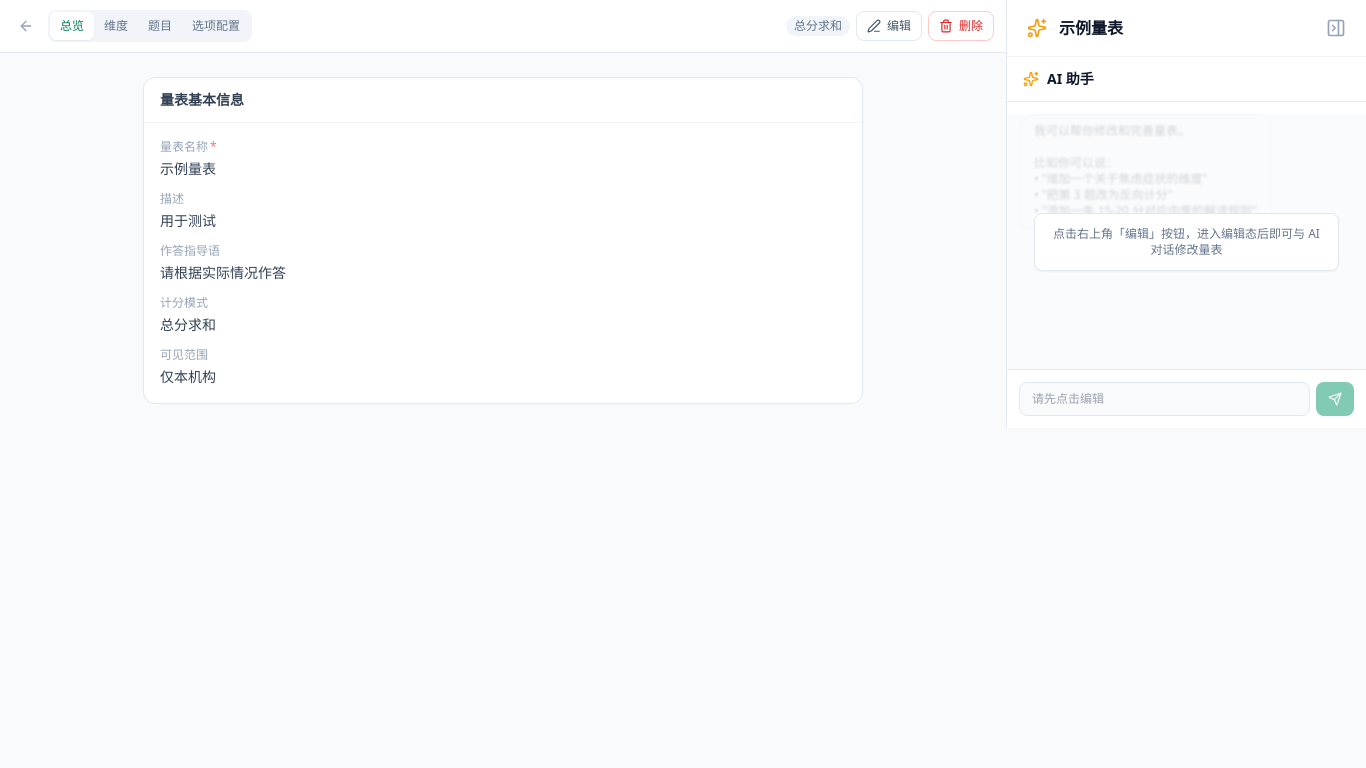
Test case: ScaleDetail — pre-split characterization › clicking 编辑 swaps action buttons to 保存 + 取消
Click the button "编辑" at {"x": 889, "y": 26}, box [856, 11, 922, 41]
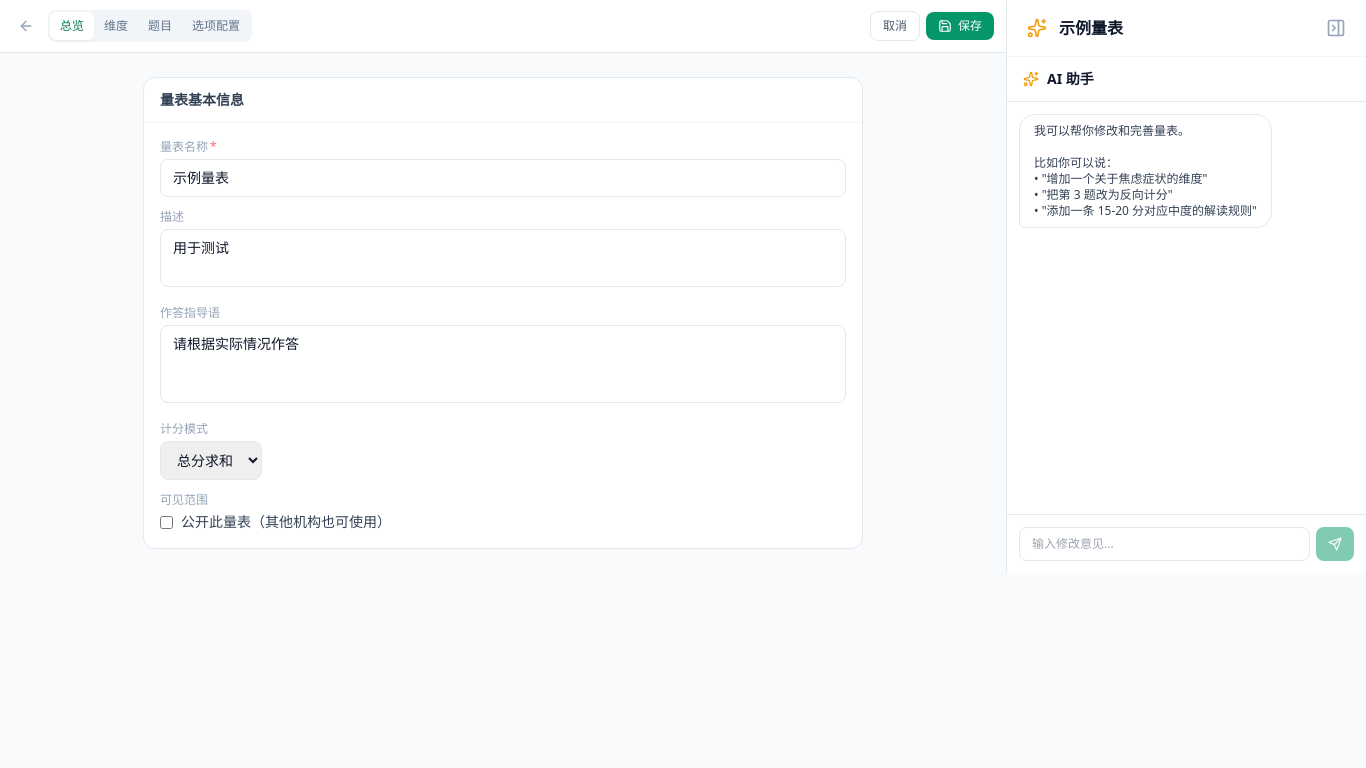
Check: the button "保存" is shown, box [926, 12, 994, 40]
Check: the button "取消" is shown, box [870, 11, 920, 41]
Check: the text "编辑" is gone
